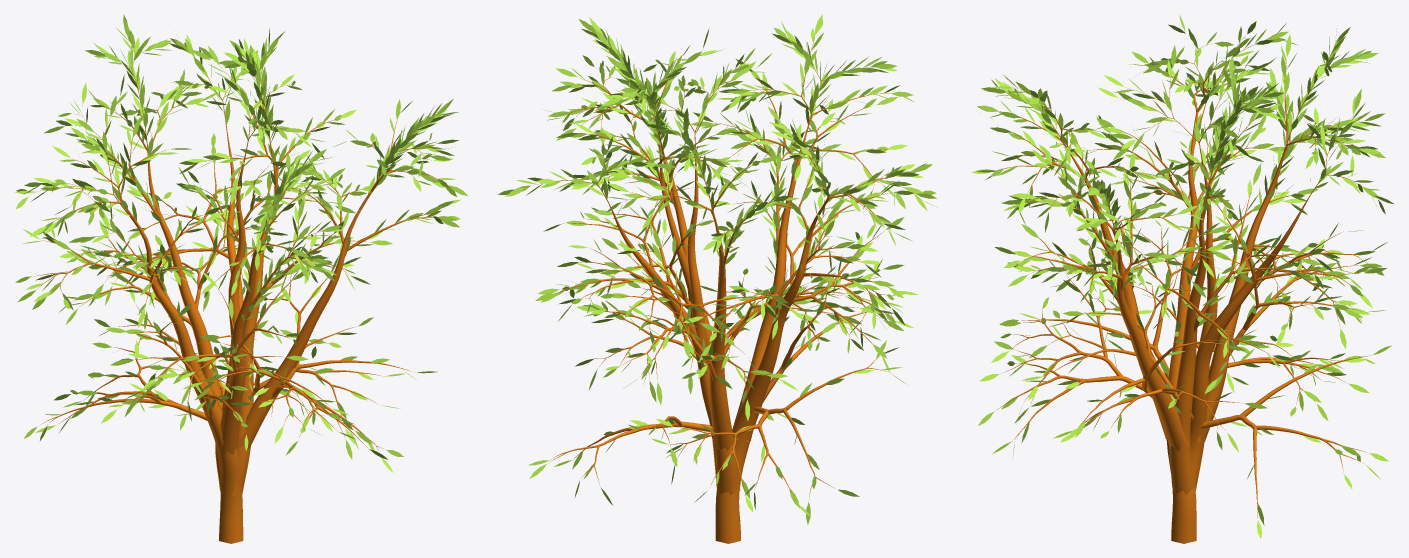
The model's file is Tree2.fbx.
3 views of the same model, side by side, from view 1: azimuth 30°, elevation 25°; view 2: azimuth 150°, elevation 25°; view 3: azimuth 270°, elevation 25° (orthographic). The views are drawn at different scales.
Visible parts, largest first — view 1: leaves, tree; view 2: leaves, tree; view 3: leaves, tree.
Part boxes in pixels (x1=…): leaves: x1=14, y1=14, x2=468, y2=472; tree: x1=34, y1=42, x2=436, y2=543; leaves: x1=498, y1=14, x2=938, y2=524; tree: x1=528, y1=37, x2=916, y2=543; leaves: x1=971, y1=14, x2=1394, y2=538; tree: x1=986, y1=35, x2=1373, y2=543.
Bounding box in the file's own units: 1445 × 1653 × 1283.
